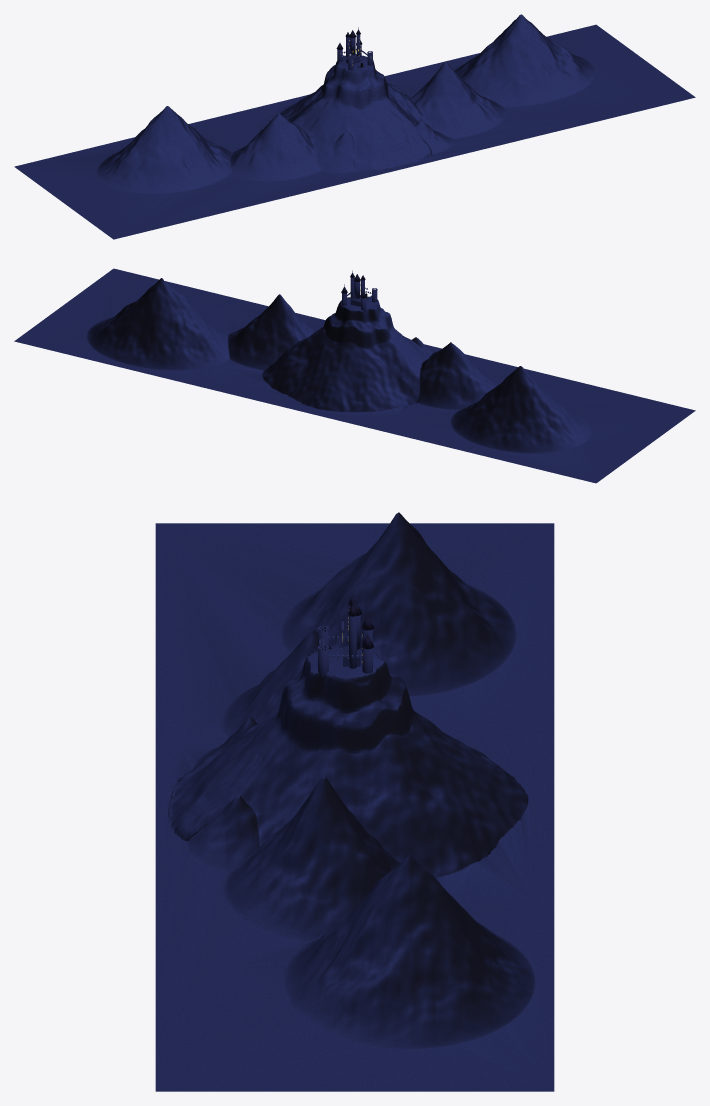
The model's file is backdrop.glb.
The picture shows the model from 3 angles, top to bottom: view 1: azimuth 30°, elevation 25°; view 2: azimuth 150°, elevation 25°; view 3: azimuth 270°, elevation 25°; orthographic projection. The views are drawn at different scales.
Parts seen in each view (by area): view 1: terrain, backdrop; view 2: terrain, backdrop; view 3: terrain, backdrop.
Part boxes in pixels (<box>): terrain: <box>14,14,695,239</box>; backdrop: <box>336,27,372,70</box>; terrain: <box>14,268,695,483</box>; backdrop: <box>341,270,377,311</box>; terrain: <box>155,512,554,1091</box>; backdrop: <box>317,591,373,678</box>.
Bounding box in the file's own units: 255 × 45.13 × 75.6.
2 materials, 2 textured.
